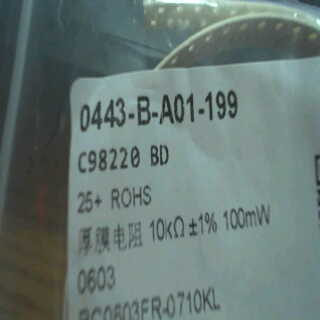10kR: (145, 211, 187, 249)
